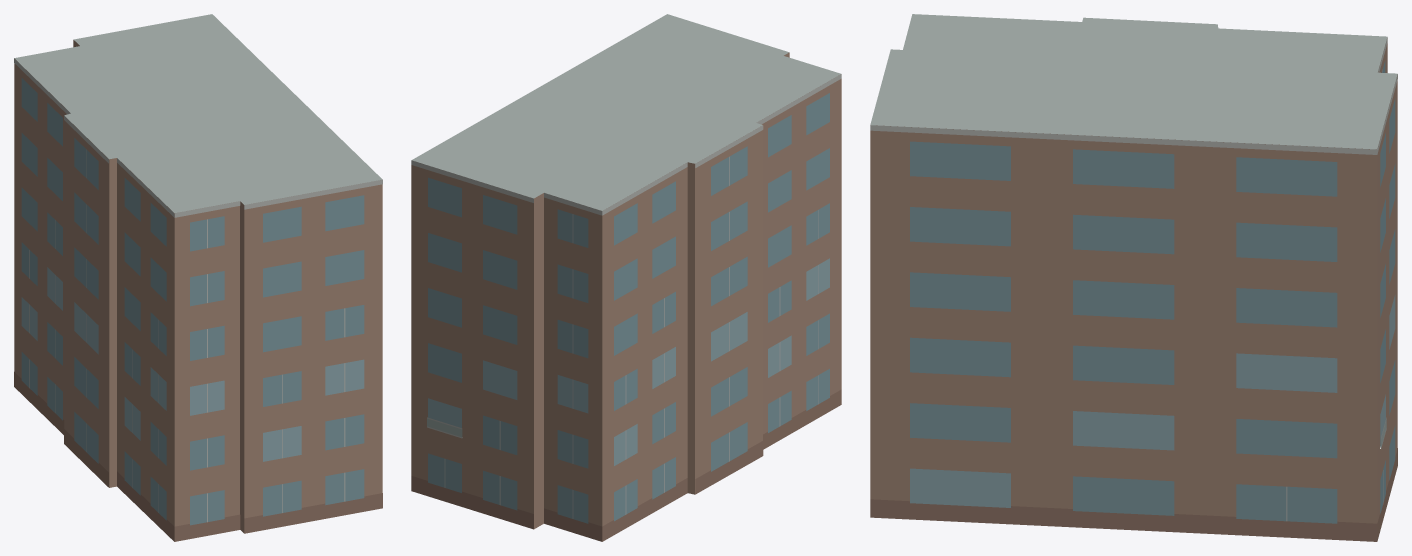
Rendered from survey-upis-32567003.glb.
The picture shows the model from 3 angles, left to right: view 1: azimuth 30°, elevation 25°; view 2: azimuth 150°, elevation 25°; view 3: azimuth 270°, elevation 25°; orthographic projection. The views are drawn at different scales.
Parts seen in each view (by area): view 1: survey-upis-32567003.tmp; view 2: survey-upis-32567003.tmp; view 3: survey-upis-32567003.tmp.
Part boxes in pixels (box(x1,y1,x2,y2)): survey-upis-32567003.tmp: box(14, 14, 382, 541); survey-upis-32567003.tmp: box(411, 14, 841, 541); survey-upis-32567003.tmp: box(870, 14, 1397, 541).
Bounding box in the file's own units: 12.74 × 17.2 × 20.97.
